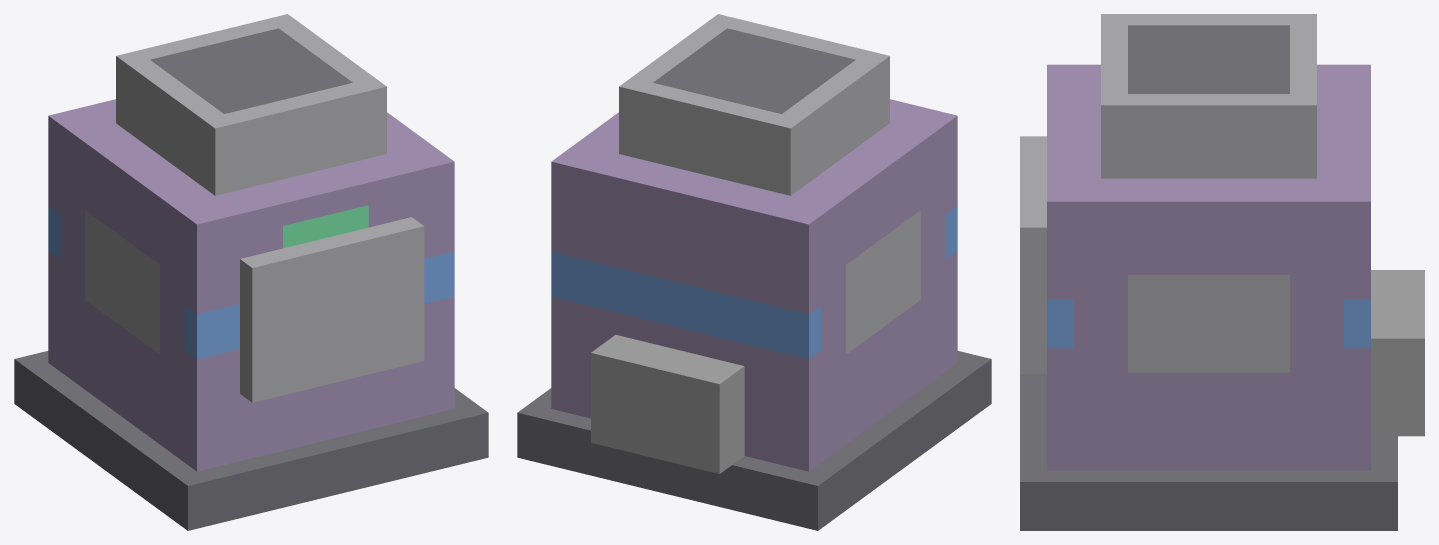
File: crusher.glb
The picture shows the model from 3 angles, left to right: view 1: azimuth 30°, elevation 25°; view 2: azimuth 150°, elevation 25°; view 3: azimuth 270°, elevation 25°; orthographic projection. The views are drawn at different scales.
Parts seen in each view (by area): view 1: VoxelModel; view 2: VoxelModel; view 3: VoxelModel.
Part boxes in pixels (<box>): VoxelModel: <box>14,14,488,530</box>; VoxelModel: <box>517,14,991,530</box>; VoxelModel: <box>1020,14,1424,530</box>.
Bounding box in the file's own units: 0.875 × 1 × 0.9375.
